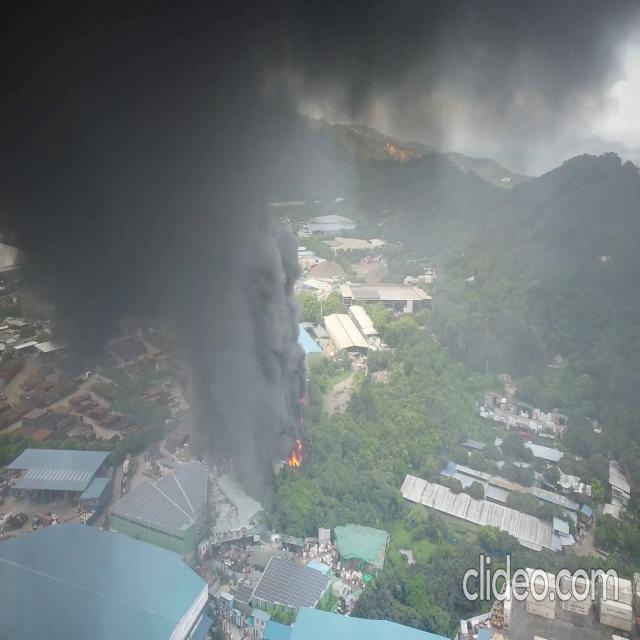Fire: (287, 436, 305, 470)
Smoke: (7, 0, 454, 413)
